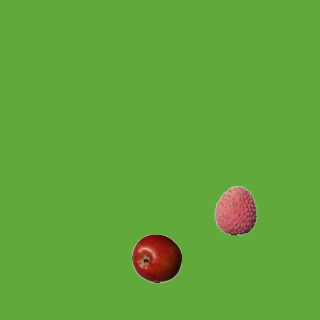Apple Braeburn: (131, 233, 181, 283)
Lychee: (210, 185, 260, 235)
